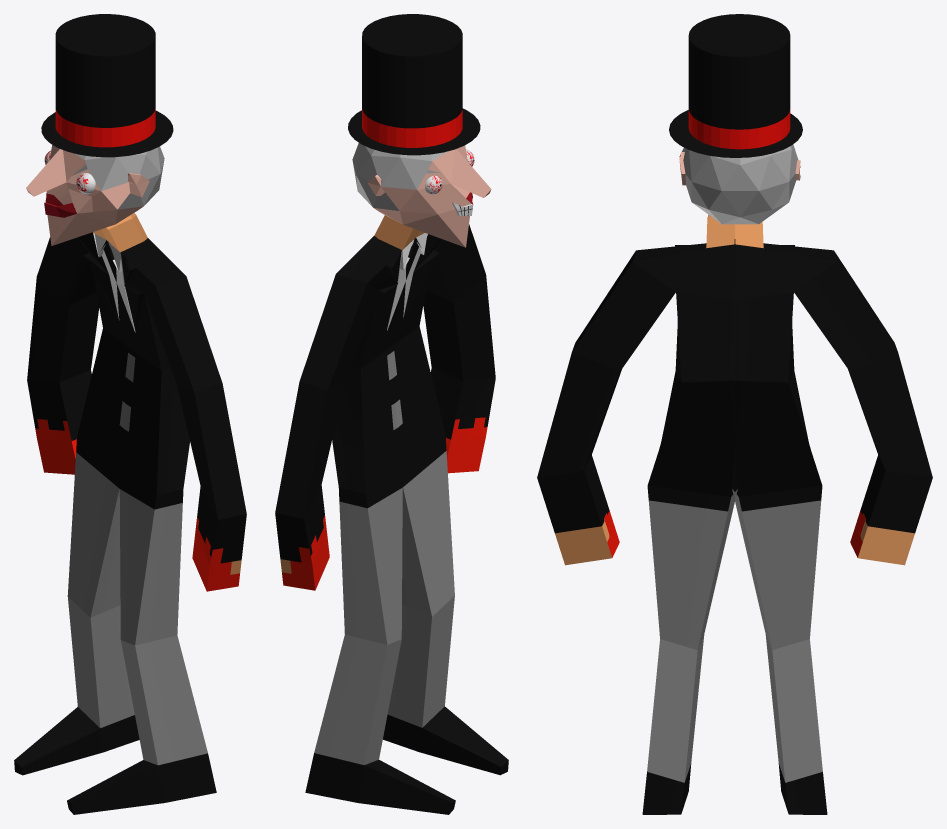
The model's file is Mbone.fbx.
3 views of the same model, side by side, from view 1: azimuth 30°, elevation 25°; view 2: azimuth 150°, elevation 25°; view 3: azimuth 270°, elevation 25° (orthographic).
Visible parts, largest first — view 1: Cube, Cylinder, Icosphere, Circle; view 2: Cube, Cylinder, Icosphere, Circle; view 3: Cube, Cylinder, Icosphere, Circle.
Boxes of the visible parts, x1,y1,x2,y2 form: Cube: (14, 212, 246, 814); Cylinder: (55, 14, 155, 147); Icosphere: (26, 145, 164, 245); Circle: (41, 110, 173, 157); Cube: (275, 215, 508, 814); Cylinder: (362, 14, 462, 147); Icosphere: (352, 143, 491, 247); Circle: (348, 108, 480, 155); Cube: (537, 215, 932, 814); Cylinder: (688, 14, 790, 149); Icosphere: (679, 144, 800, 224); Circle: (669, 110, 802, 157).
Bounding box in the file's own units: 134 × 623 × 298.
